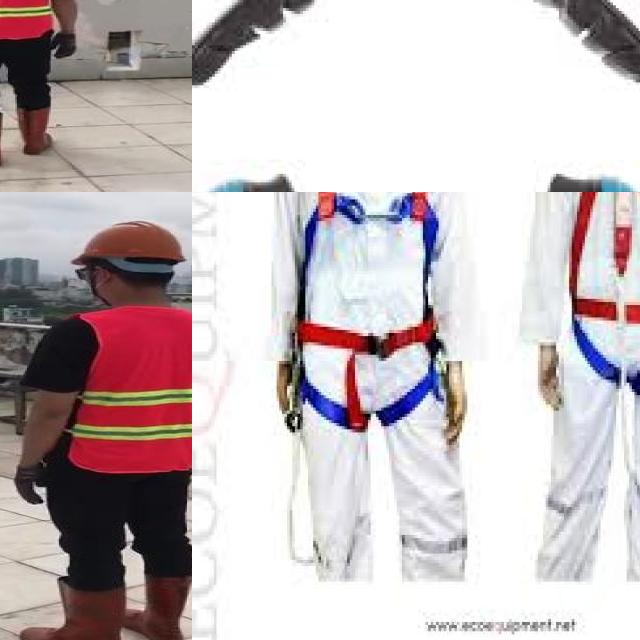Ear-protection: (192, 0, 640, 192)
Harness: (296, 192, 440, 433), (569, 192, 640, 384)
boots: (16, 579, 126, 640), (132, 570, 192, 640), (15, 108, 54, 156)
hand_glove: (9, 464, 50, 503), (52, 32, 76, 61)
head_helmet: (68, 216, 189, 264)
person: (0, 216, 192, 640), (0, 0, 82, 175)
vest: (69, 306, 192, 471)
